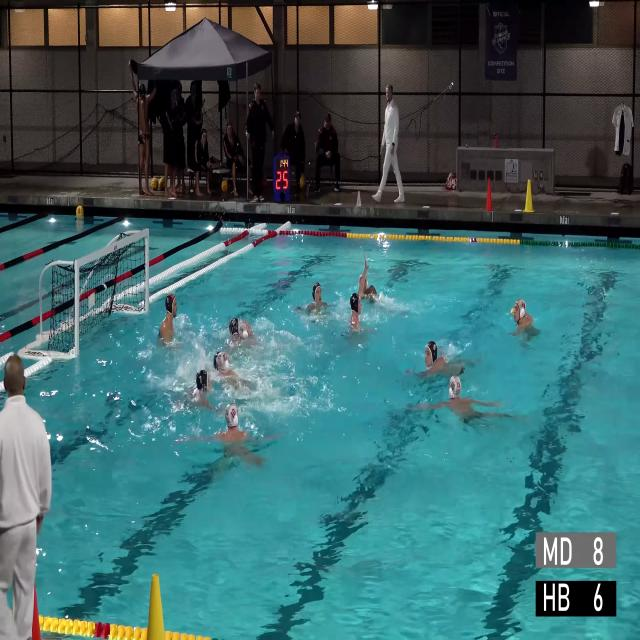ball: (76, 205, 84, 219), (151, 177, 159, 191), (159, 177, 165, 191), (222, 179, 228, 192), (300, 178, 306, 188), (510, 308, 514, 314)
